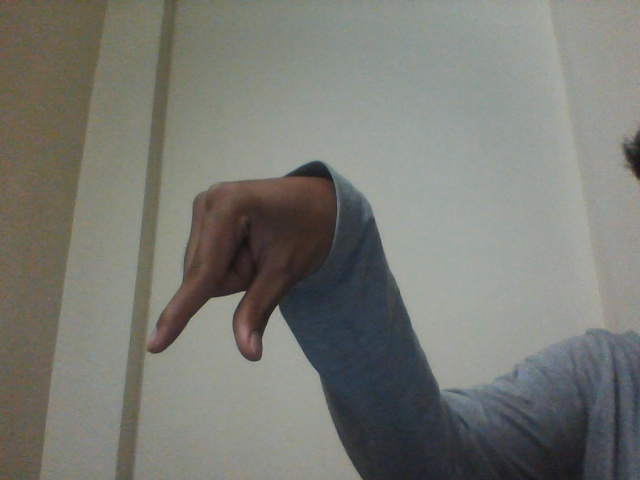q: (141, 172, 319, 370)
